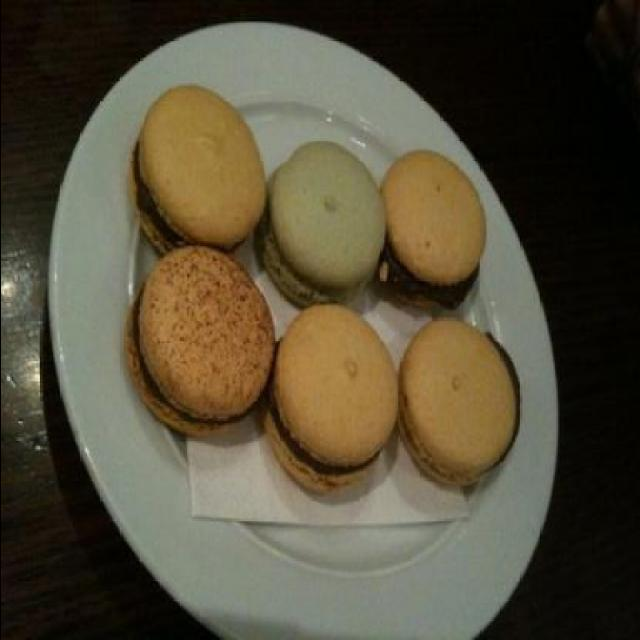Macaron: (117, 90, 520, 488)
